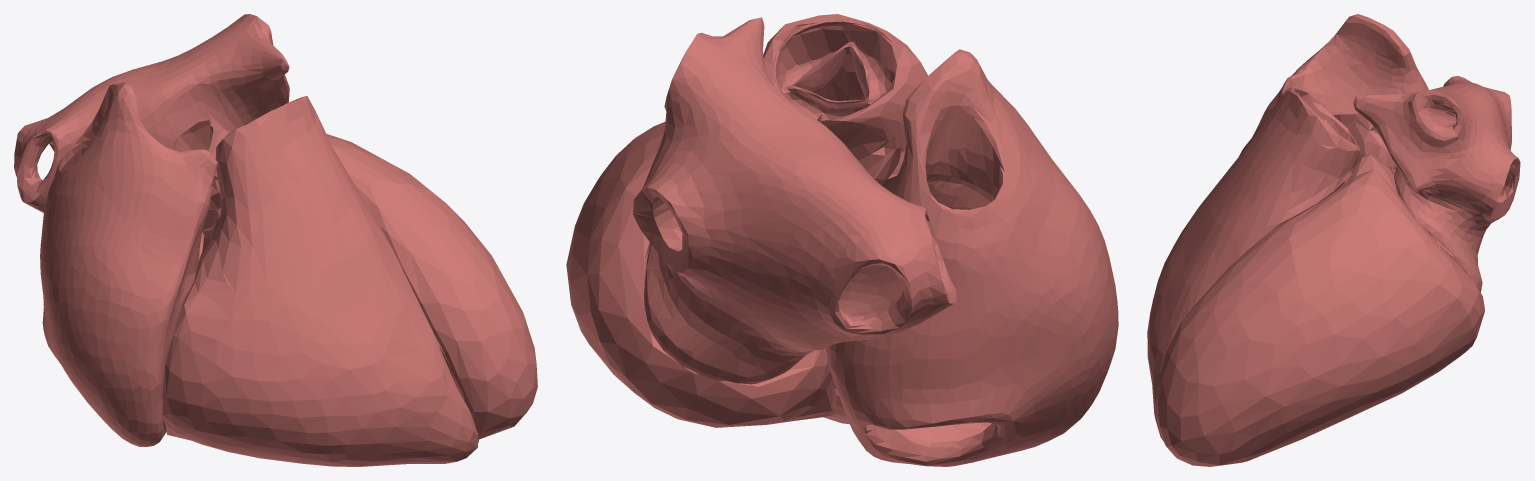
File: VH_M_Heart_0.1.glb
The picture shows the model from 3 angles, left to right: view 1: azimuth 30°, elevation 25°; view 2: azimuth 150°, elevation 25°; view 3: azimuth 270°, elevation 25°; orthographic projection. The views are drawn at different scales.
Visible parts, largest first — view 1: VH_M_heart_right_ventricle, VH_M_right_cardiac_atrium, VH_M_heart_left_ventricle, VH_M_left_cardiac_atrium, VH_M_aortic_valve; view 2: VH_M_left_cardiac_atrium, VH_M_right_cardiac_atrium, VH_M_heart_left_ventricle, VH_M_heart_right_ventricle, VH_M_pulmonary_valve, VH_M_aortic_valve; view 3: VH_M_heart_left_ventricle, VH_M_heart_right_ventricle, VH_M_left_cardiac_atrium, VH_M_right_cardiac_atrium, VH_M_aortic_valve.
Part boxes in pixels (x1=…): VH_M_heart_right_ventricle: x1=162, y1=96, x2=478, y2=466; VH_M_right_cardiac_atrium: x1=40, y1=82, x2=217, y2=446; VH_M_heart_left_ventricle: x1=202, y1=134, x2=537, y2=439; VH_M_left_cardiac_atrium: x1=14, y1=14, x2=289, y2=212; VH_M_aortic_valve: x1=170, y1=114, x2=230, y2=209; VH_M_left_cardiac_atrium: x1=633, y1=17, x2=956, y2=384; VH_M_right_cardiac_atrium: x1=826, y1=49, x2=1118, y2=466; VH_M_heart_left_ventricle: x1=566, y1=122, x2=833, y2=427; VH_M_heart_right_ventricle: x1=763, y1=14, x2=927, y2=424; VH_M_pulmonary_valve: x1=774, y1=20, x2=895, y2=120; VH_M_aortic_valve: x1=817, y1=114, x2=900, y2=189; VH_M_heart_left_ventricle: x1=1156, y1=154, x2=1484, y2=466; VH_M_heart_right_ventricle: x1=1147, y1=85, x2=1360, y2=439; VH_M_left_cardiac_atrium: x1=1353, y1=76, x2=1520, y2=292; VH_M_right_cardiac_atrium: x1=1239, y1=14, x2=1428, y2=155; VH_M_aortic_valve: x1=1333, y1=113, x2=1397, y2=169.
Size of the model in its own units: 0.1244 by 0.1056 by 0.1052.
